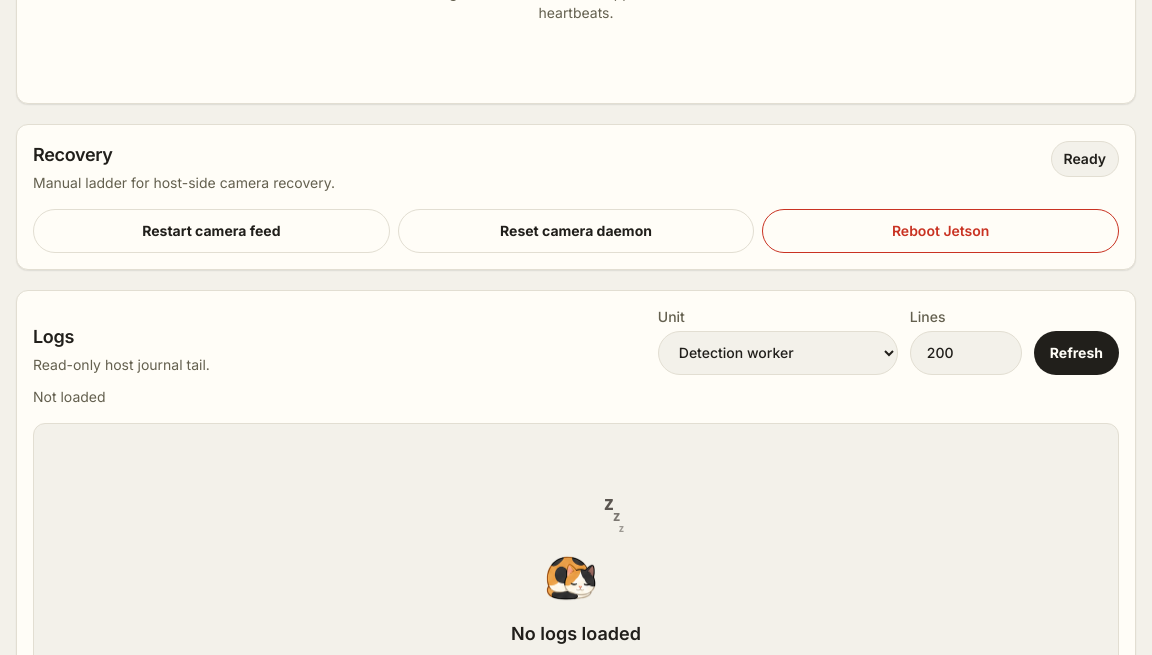
Scenario: GodView page › Given an owner refreshes logs, When polling completes, Then the read-only log region renders monospace lines
(page scrolled)
Click the button "Refresh".
click(1076, 353)  # box [1034,331,1119,375]
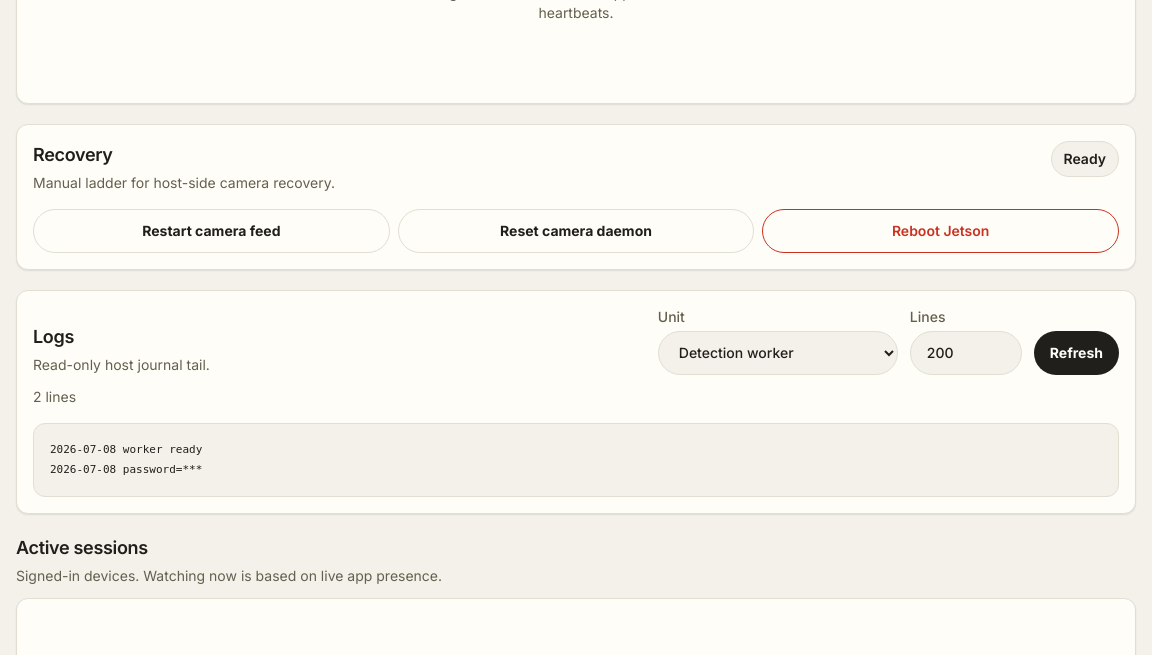
Now the text named "system logs" shows "worker ready", box [50,443,202,476]
Now the text named "system logs" shows "password=***", box [50,443,202,476]
